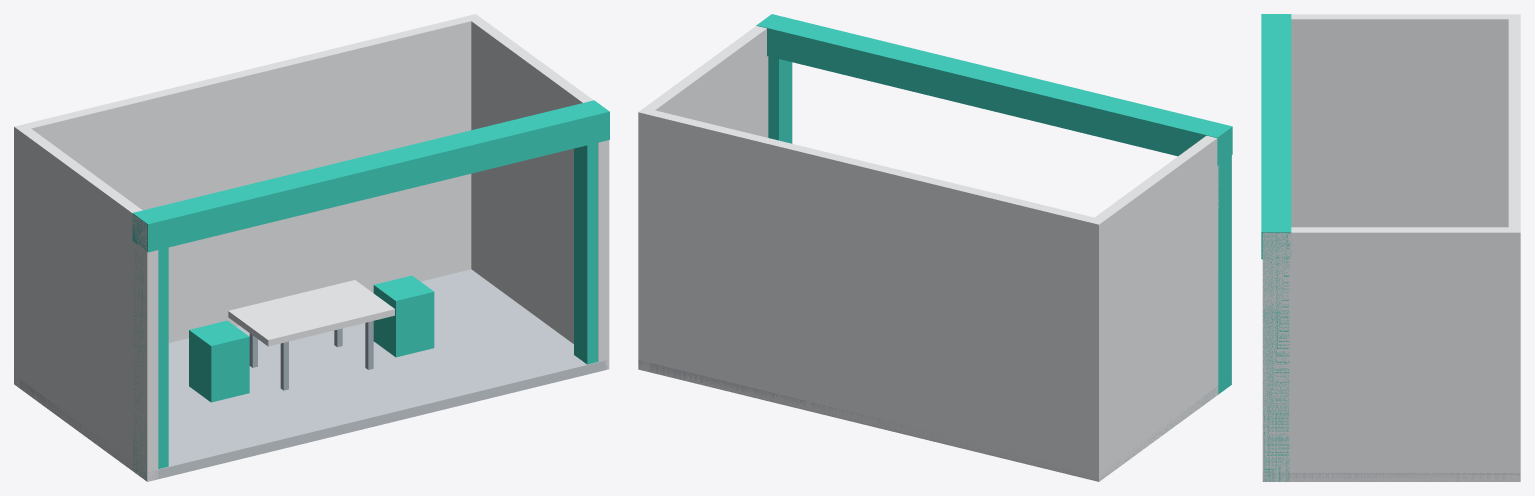
3 views of the same model, side by side, from view 1: azimuth 30°, elevation 25°; view 2: azimuth 150°, elevation 25°; view 3: azimuth 270°, elevation 25° (orthographic). The views are drawn at different scales.
Parts seen in each view (by area): view 1: Exhibition Booth Concept; view 2: Exhibition Booth Concept; view 3: Exhibition Booth Concept.
Boxes of the visible parts, x1,y1,x2,y2 form: Exhibition Booth Concept: (14,14,609,481); Exhibition Booth Concept: (638,14,1232,481); Exhibition Booth Concept: (1261,14,1520,481).
Size of the model in its own units: 6 by 3.2 by 3.01.
